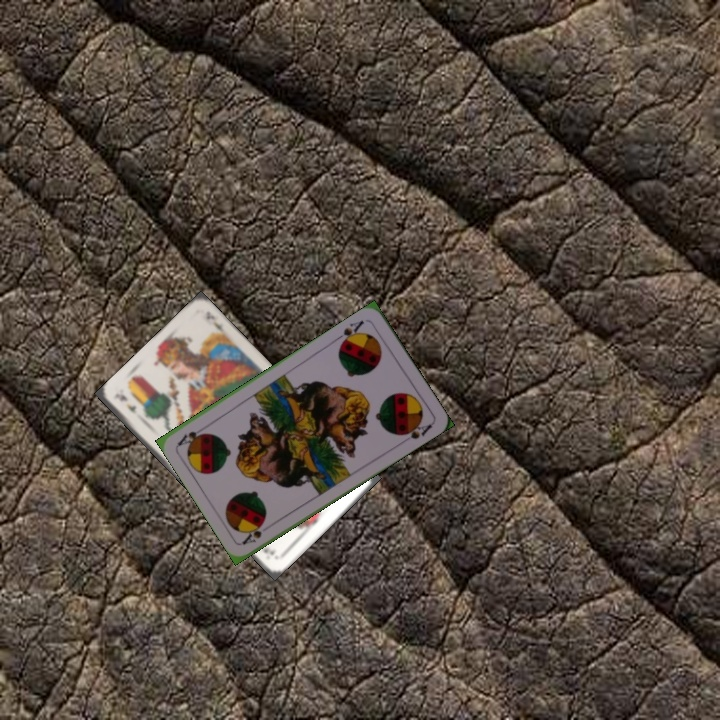EK: (115, 390, 139, 415)
SA: (332, 316, 367, 348), (238, 519, 267, 547)
